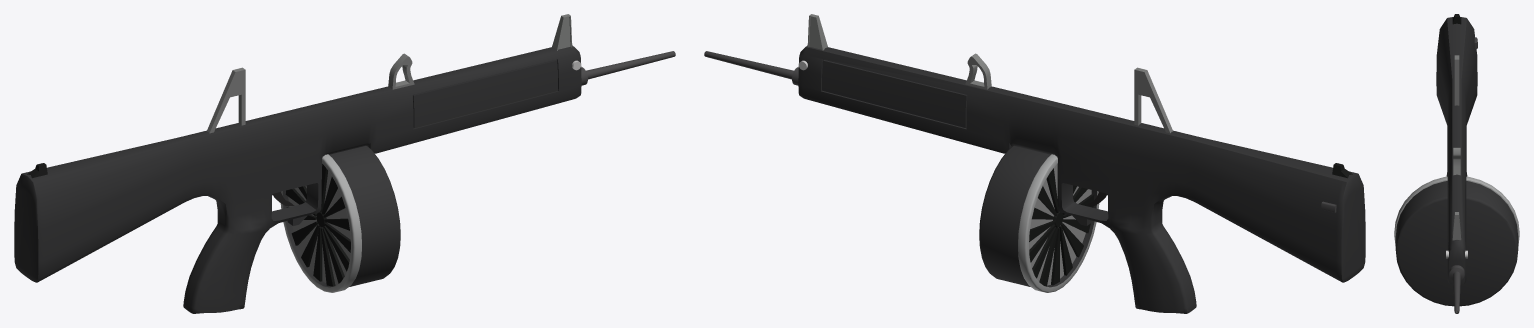
3 renders of one model, left to right at view 1: azimuth 30°, elevation 25°; view 2: azimuth 150°, elevation 25°; view 3: azimuth 270°, elevation 25°, orthographic. The views are drawn at different scales.
Parts seen in each view (by area): view 1: AA12; view 2: AA12; view 3: AA12.
Part boxes in pixels (box(x1,y1,x2,y2)): AA12: box(14, 14, 675, 313); AA12: box(704, 14, 1365, 313); AA12: box(1394, 14, 1519, 313).
Bounding box in the file's own units: 0.8413 × 0.2938 × 0.1674.
